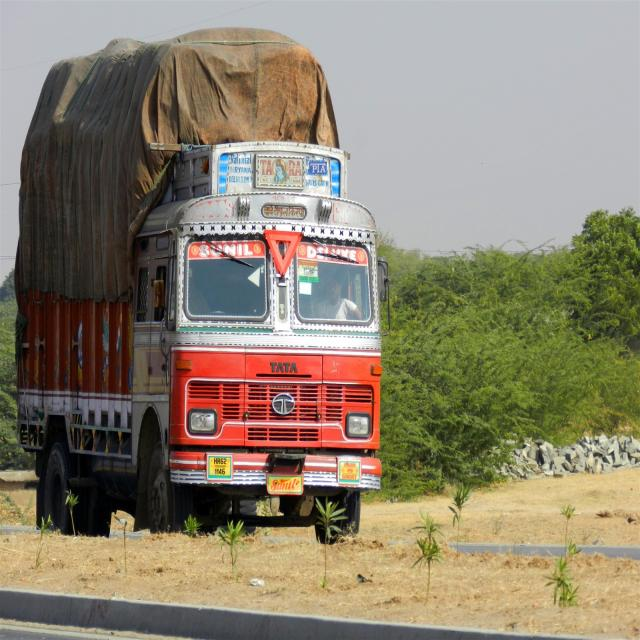goods: (15, 28, 339, 302)
truck: (18, 140, 386, 535)
